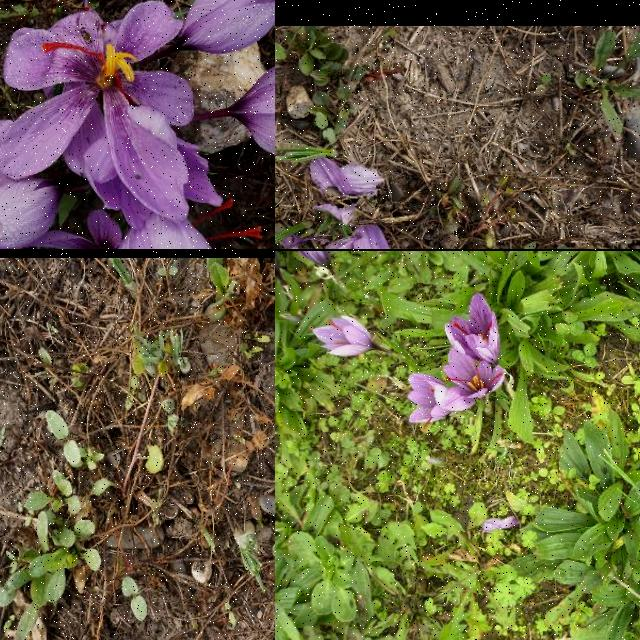flower: (0, 0, 196, 224), (182, 0, 275, 55), (226, 59, 275, 161), (0, 179, 67, 249), (311, 316, 379, 356)
overlap: (0, 0, 275, 249), (410, 293, 504, 429)
